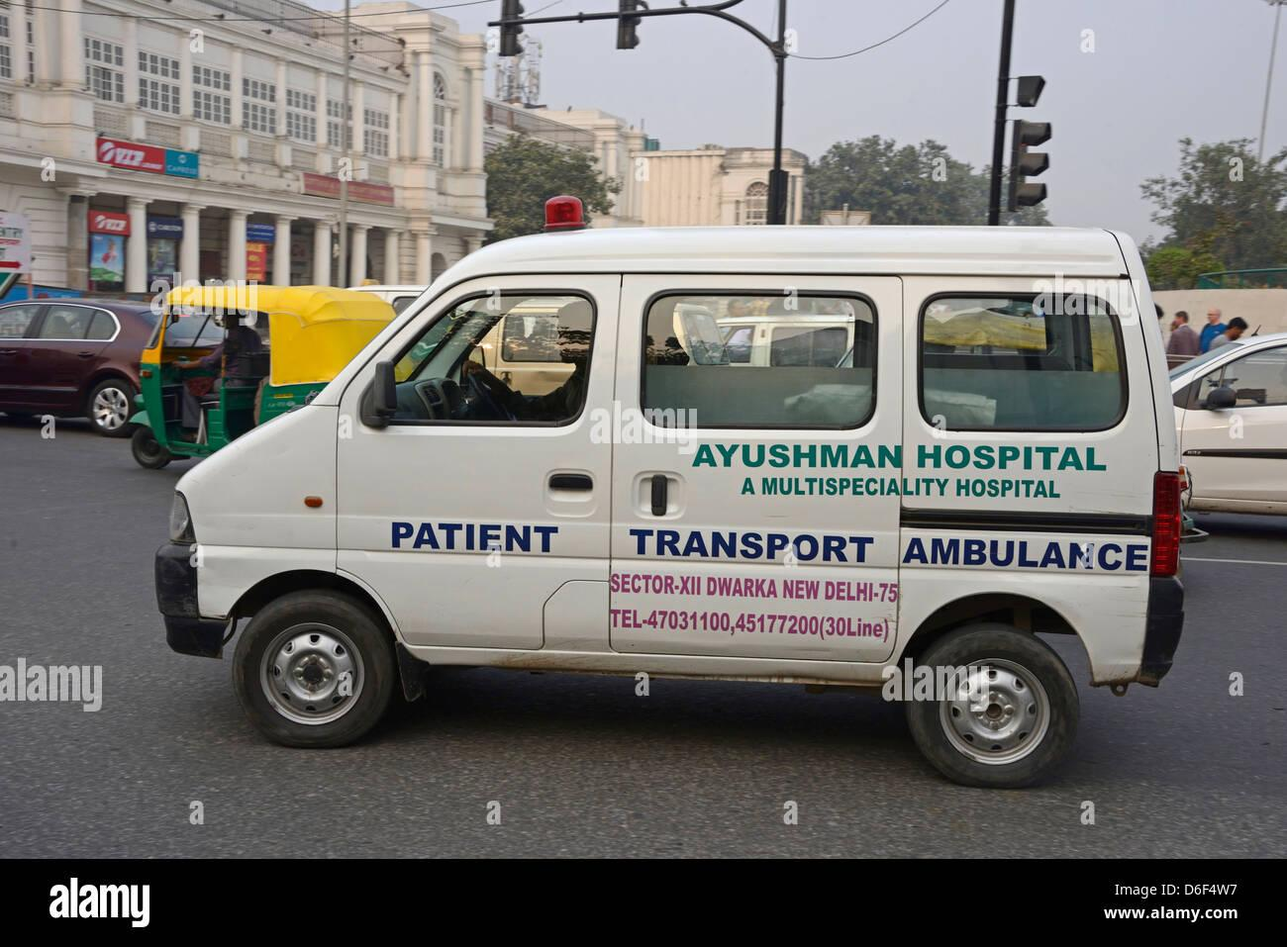Emergency-Vehicles: (120, 137, 1243, 800)
